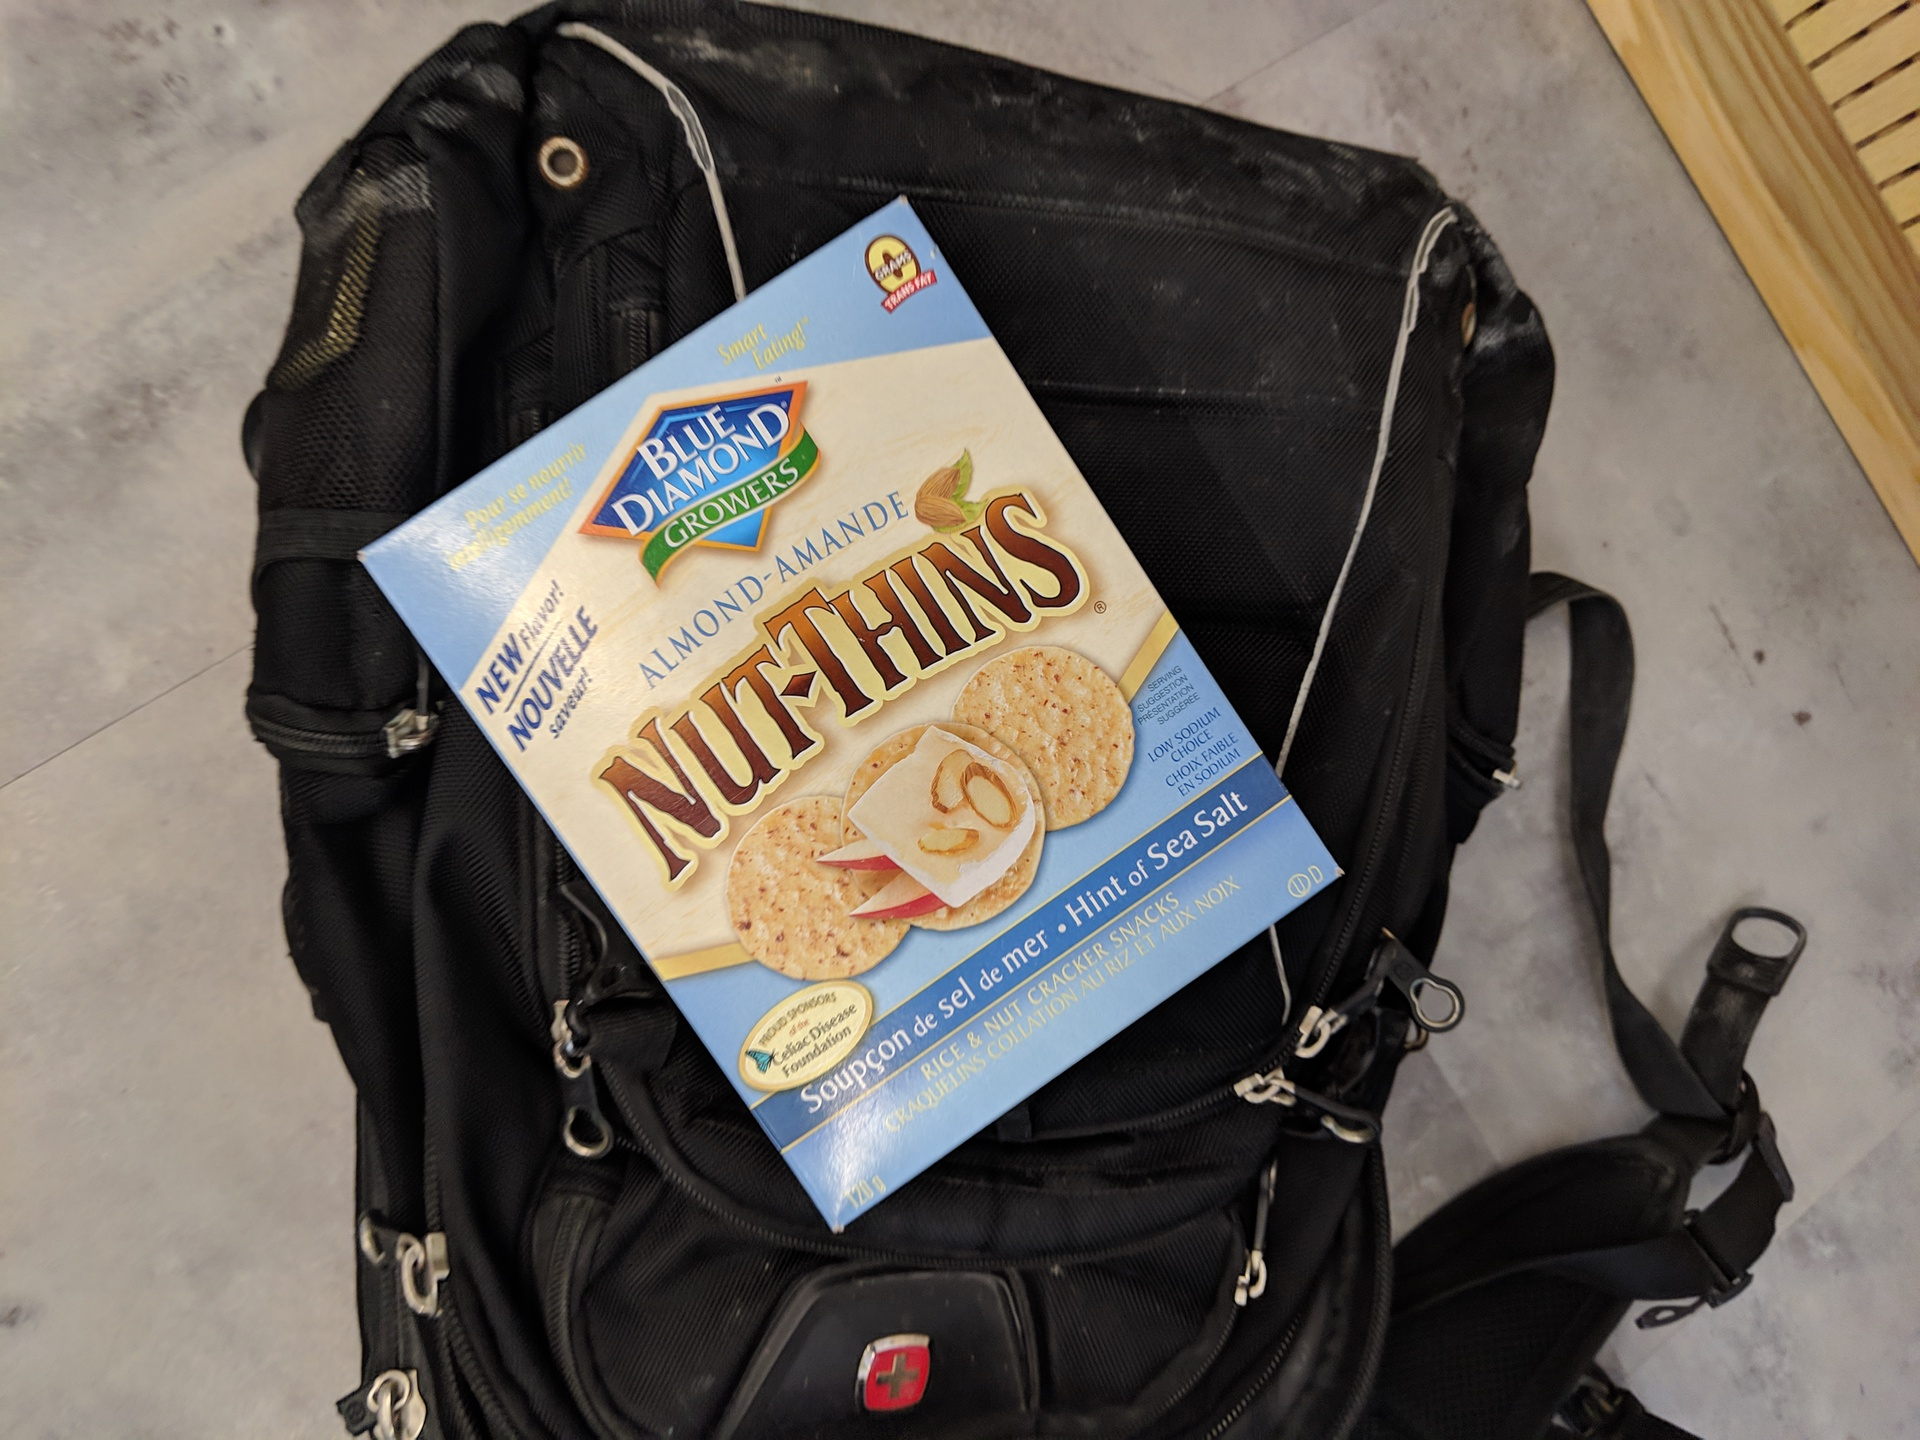blue_diamond_nut_thins_almond_seasalt: (584, 522, 1107, 877)
